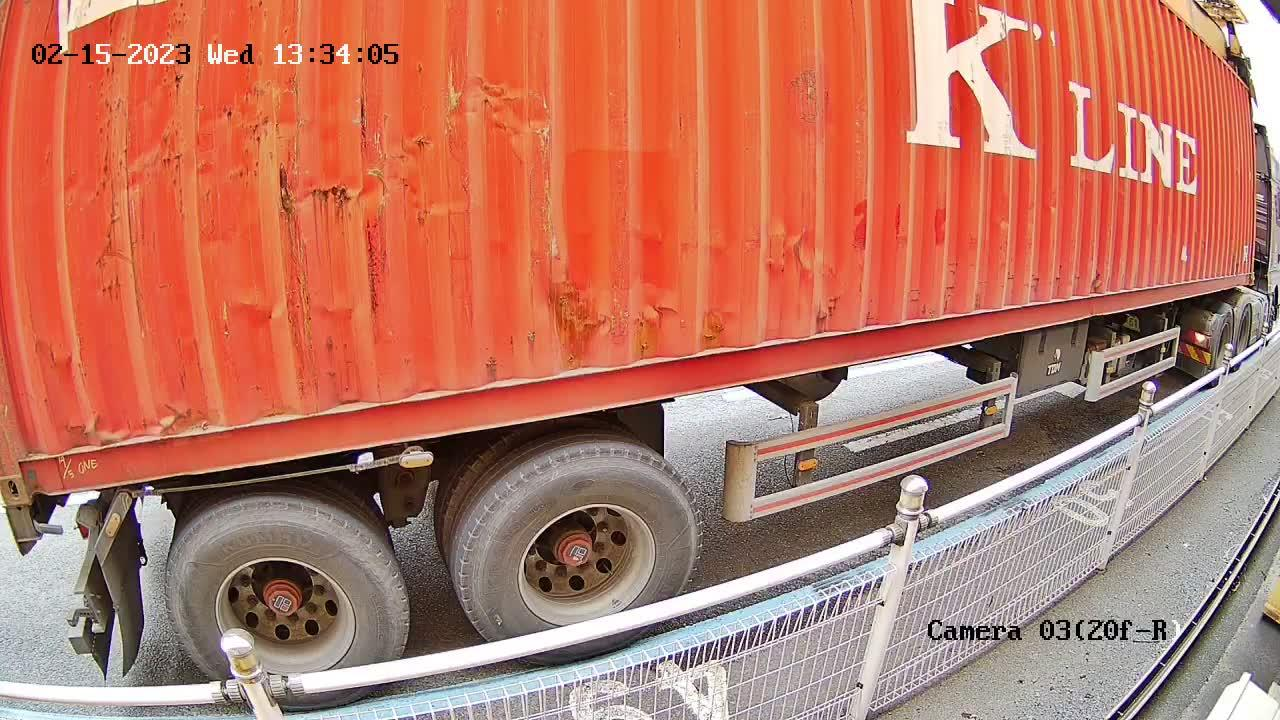Cone: (5, 499, 45, 543)
Hole_L: (0, 429, 80, 513)
Tire: (454, 450, 705, 640), (161, 505, 401, 671)
